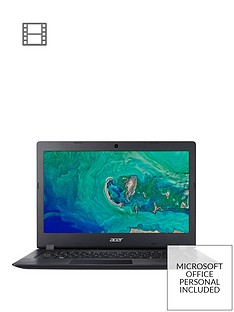Laptop: (7, 138, 202, 273)
